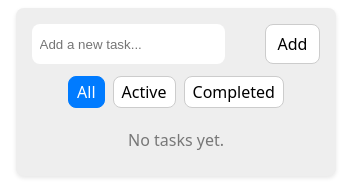
T8 (MBCC Base B1) - normal title, empty list, filter Active › T8 - should add first active task when list is empty and filter is Active
The width and height of the screenshot is (353, 195).
# pre: switch to Active filter, list is empty
Click the button "Active": (144, 92) [113,76,176,108]
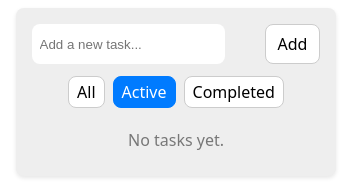
Check: the text "Buy milk" is not shown
# add first task with normal title
In the field with placeholder "Add a new task...": (128, 44) [32,24,224,64], type "Buy milk"
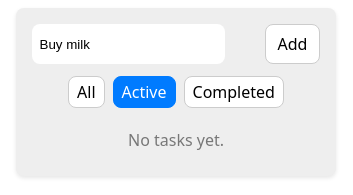
Click the button "Add": (292, 44) [264,24,320,64]
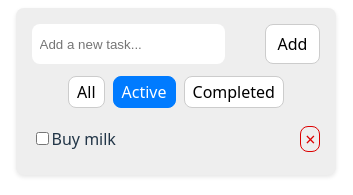
Check: the text "Buy milk" is shown, box [52,128,116,150]
Check: the field with placeholder "Add a new task..." is empty, box [32,24,224,64]
